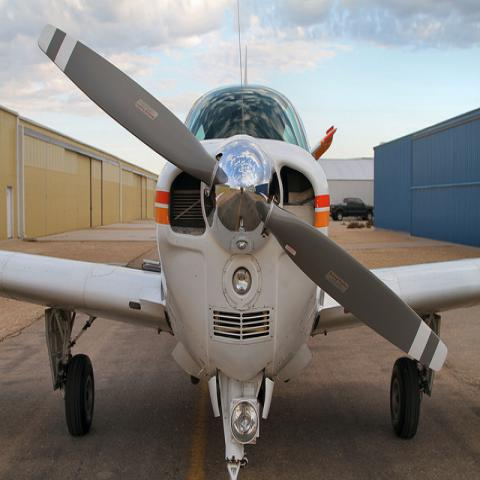truck: (330, 198, 374, 222)
